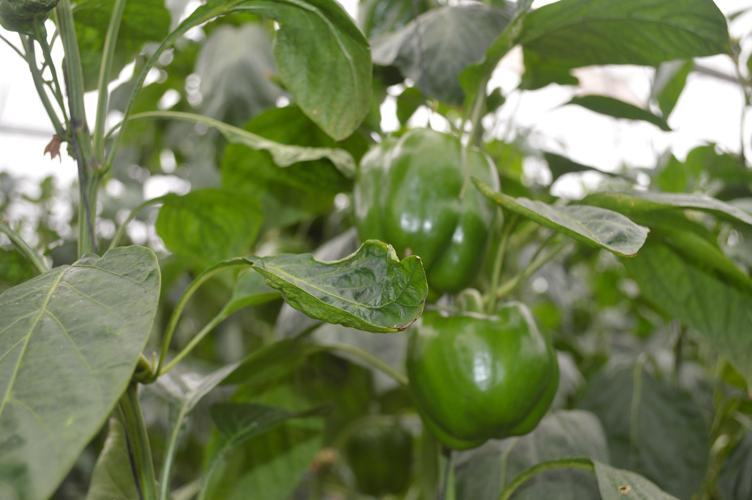BellPepper: (337, 117, 509, 299), (391, 304, 574, 450)
